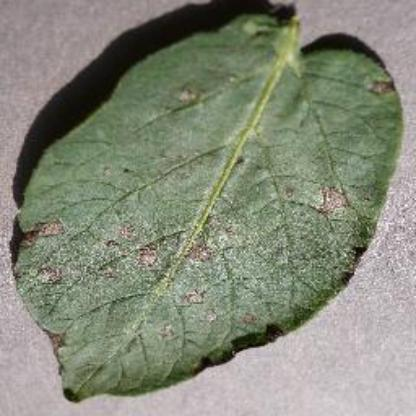Early-Blight: (13, 7, 400, 401)
